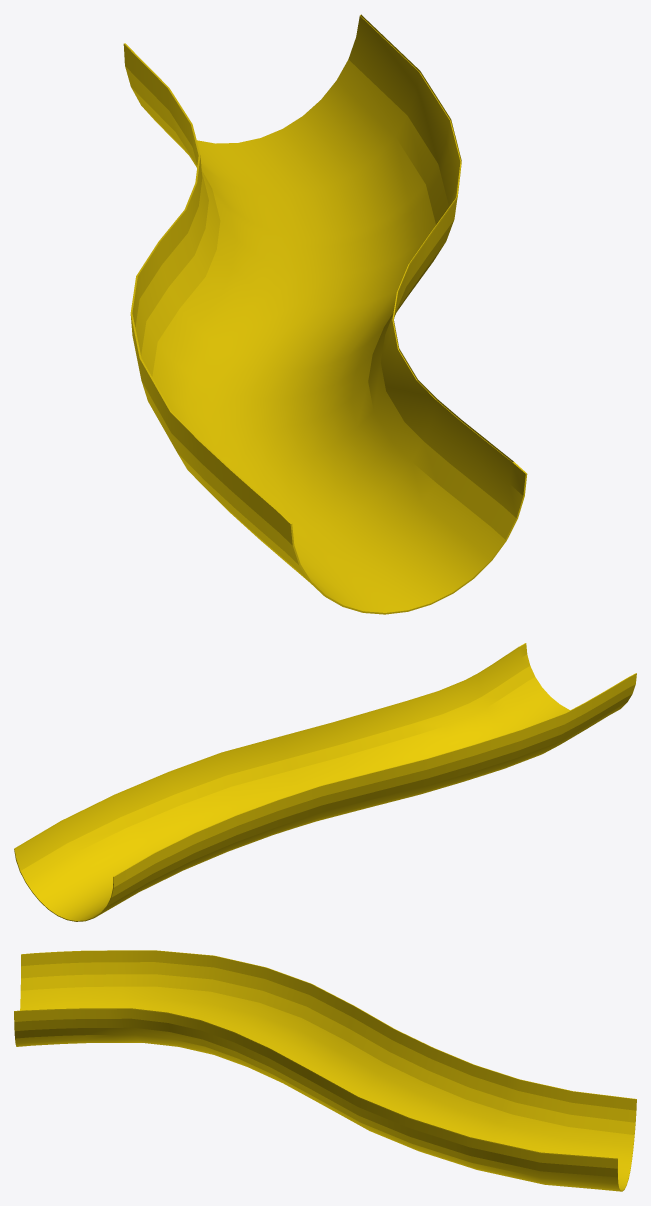
Rendered from giriş.fbx.
3 renders of one model, top to bottom at view 1: azimuth 30°, elevation 25°; view 2: azimuth 150°, elevation 25°; view 3: azimuth 270°, elevation 25°, orthographic. The views are drawn at different scales.
Parts seen in each view (by area): view 1: giriş; view 2: giriş; view 3: giriş.
Part boxes in pixels (bbox=[...]): giriş: bbox=[123, 14, 527, 614]; giriş: bbox=[14, 643, 636, 921]; giriş: bbox=[14, 950, 636, 1191].
Size of the model in its own units: 422 by 126 by 681.
